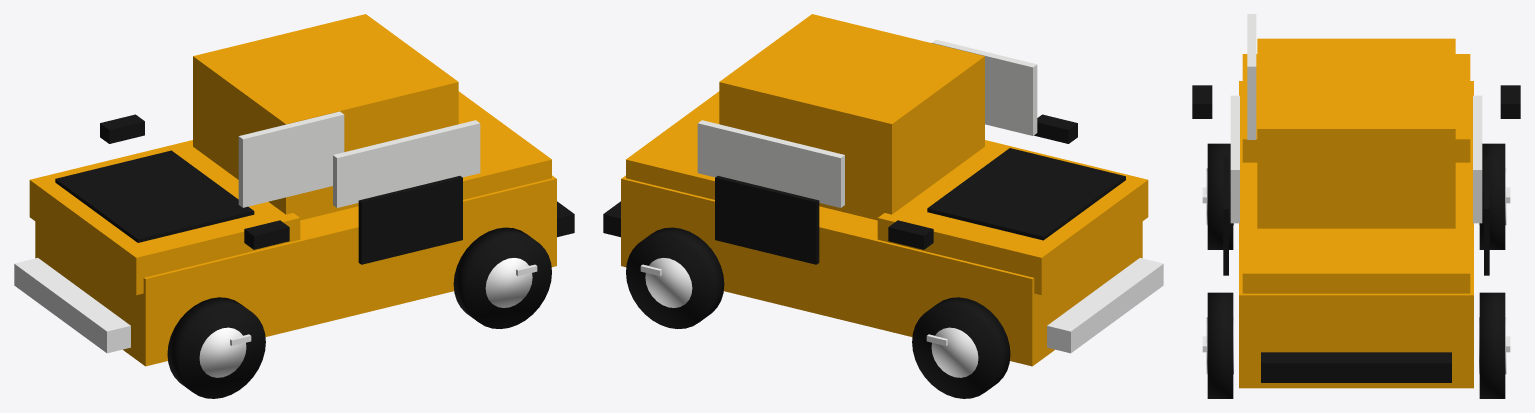
The model's file is car_yellow.glb.
3 renders of one model, left to right at view 1: azimuth 30°, elevation 25°; view 2: azimuth 150°, elevation 25°; view 3: azimuth 270°, elevation 25°, orthographic. The views are drawn at different scales.
Visible parts, largest first — view 1: car lower body, car cabin block, car hood, hood inset line, side window left, front windshield, door cut left, black car tire, black car tire.002, car trunk, front bumper white, white wheel hub (+4 smaller); view 2: car cabin block, car lower body, car hood, hood inset line, side window right, door cut right, black car tire.001, black car tire.003, car trunk, front bumper white, front windshield, white wheel hub.001 (+4 smaller); view 3: car cabin block, car lower body, car trunk, rear bumper black, black car tire.002, black car tire.003, car hood, black car tire, black car tire.001, side window left, side window right, front windshield (+4 smaller).
Part boxes in pixels (x1=…): car lower body: x1=35, y1=175, x2=556, y2=366; car cabin block: x1=193, y1=14, x2=458, y2=220; car hood: x1=29, y1=140, x2=300, y2=295; hood inset line: x1=55, y1=150, x2=254, y2=242; side window left: x1=333, y1=120, x2=480, y2=207; front windshield: x1=238, y1=111, x2=344, y2=207; door cut left: x1=358, y1=176, x2=462, y2=264; black car tire: x1=167, y1=297, x2=265, y2=398; black car tire.002: x1=453, y1=227, x2=551, y2=328; car trunk: x1=458, y1=91, x2=551, y2=199; front bumper white: x1=14, y1=258, x2=130, y2=353; white wheel hub: x1=199, y1=327, x2=246, y2=377; car cabin block: x1=719, y1=14, x2=984, y2=220; car lower body: x1=621, y1=175, x2=1142, y2=366; car hood: x1=877, y1=140, x2=1148, y2=295; hood inset line: x1=927, y1=148, x2=1125, y2=240; side window right: x1=697, y1=120, x2=844, y2=207; door cut right: x1=715, y1=176, x2=819, y2=264; black car tire.001: x1=912, y1=297, x2=1010, y2=398; black car tire.003: x1=626, y1=227, x2=724, y2=328; car trunk: x1=626, y1=91, x2=719, y2=199; front bumper white: x1=1047, y1=258, x2=1163, y2=353; front windshield: x1=932, y1=39, x2=1037, y2=135; white wheel hub.001: x1=931, y1=327, x2=978, y2=377; car cabin block: x1=1257, y1=38, x2=1455, y2=228; car lower body: x1=1239, y1=81, x2=1473, y2=388; car trunk: x1=1242, y1=211, x2=1470, y2=293; rear bumper black: x1=1261, y1=352, x2=1451, y2=382; black car tire.002: x1=1207, y1=292, x2=1233, y2=398; black car tire.003: x1=1479, y1=292, x2=1505, y2=398; car hood: x1=1242, y1=54, x2=1470, y2=162; black car tire: x1=1207, y1=143, x2=1233, y2=249; black car tire.001: x1=1479, y1=143, x2=1505, y2=249; side window left: x1=1230, y1=95, x2=1239, y2=223; side window right: x1=1473, y1=95, x2=1482, y2=223; front windshield: x1=1247, y1=14, x2=1256, y2=139.
Size of the model in its own units: 1.57 by 0.755 by 0.895.
